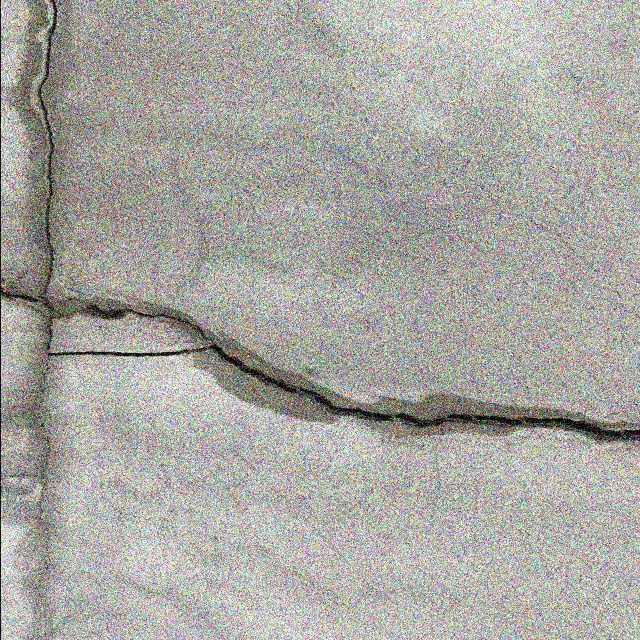SurfaceCrack: (3, 257, 639, 479), (1, 0, 87, 318)
